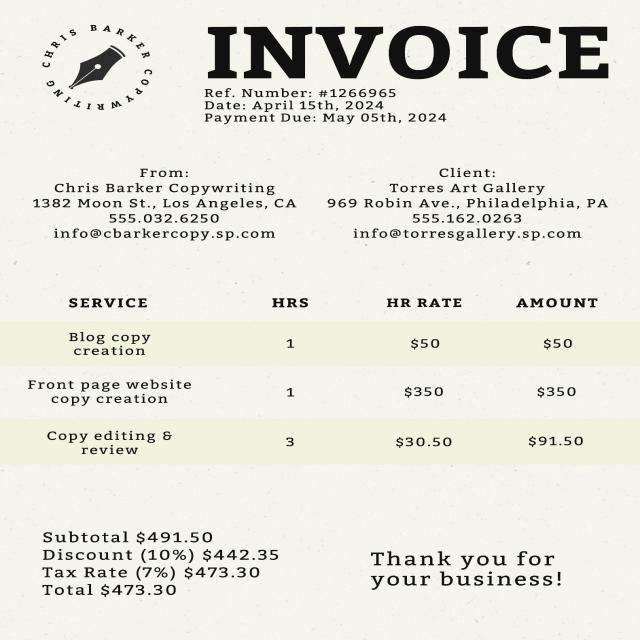paragraph: (192, 22, 616, 84), (324, 161, 614, 248), (19, 162, 302, 248), (30, 524, 300, 608), (349, 521, 592, 593), (193, 88, 460, 137), (36, 19, 162, 107)
table: (10, 273, 622, 478)
